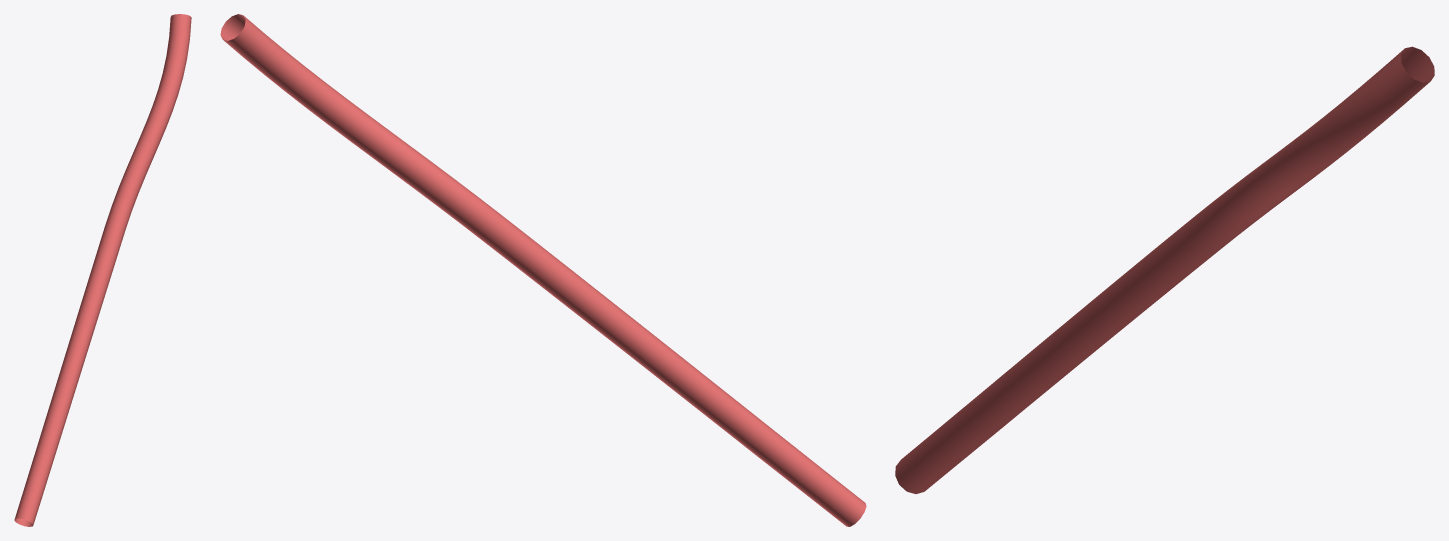
The model's file is Ulnar_recurrent_artery.r_BezierCurve.163.glb.
3 renders of one model, left to right at view 1: azimuth 30°, elevation 25°; view 2: azimuth 150°, elevation 25°; view 3: azimuth 270°, elevation 25°, orthographic. The views are drawn at different scales.
Parts seen in each view (by area): view 1: Ulnar_recurrent_artery.r_BezierCurve.163; view 2: Ulnar_recurrent_artery.r_BezierCurve.163; view 3: Ulnar_recurrent_artery.r_BezierCurve.163.
Part boxes in pixels (box(x1,y1,x2,y2)): Ulnar_recurrent_artery.r_BezierCurve.163: box(14, 14, 191, 526); Ulnar_recurrent_artery.r_BezierCurve.163: box(220, 14, 866, 526); Ulnar_recurrent_artery.r_BezierCurve.163: box(895, 46, 1434, 493).
Size of the model in its own units: 0.0222 by 0.0253 by 0.0173.
